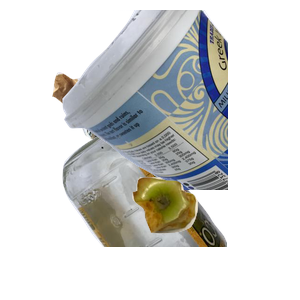cardboard: (50, 62, 228, 226)
glass: (60, 120, 300, 300)
plastic: (60, 10, 300, 190)
trash: (130, 175, 300, 300)
